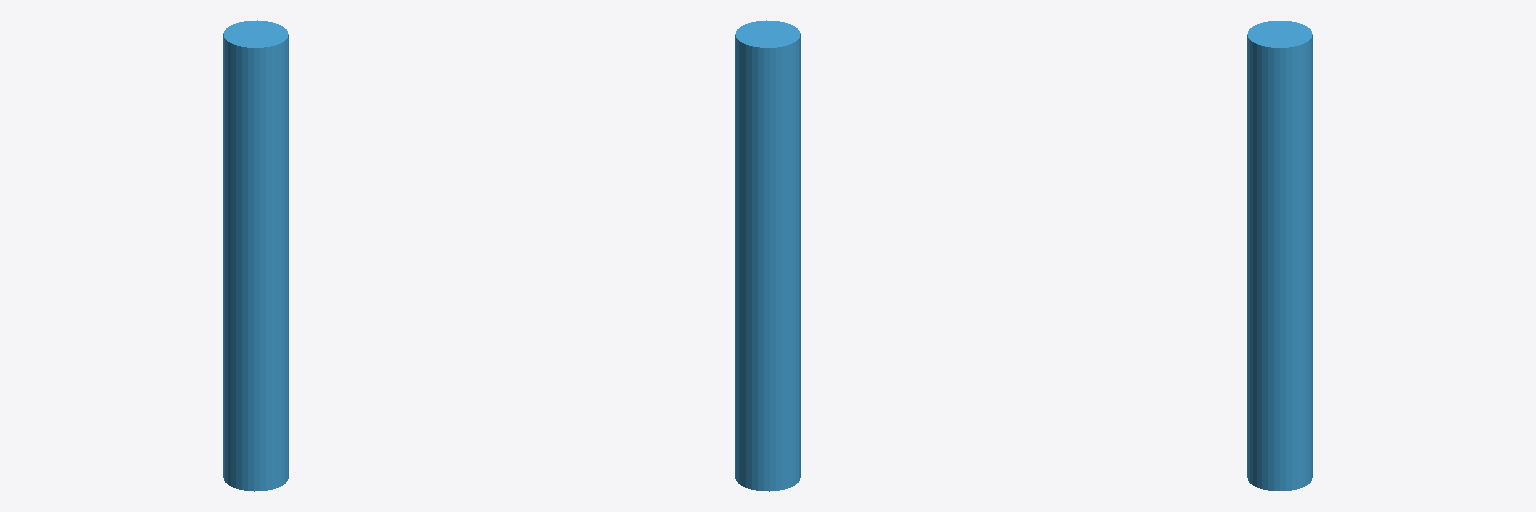
The robot description file, URDF, robot "graspable":
<?xml version="1.0" ?>
<!-- =================================================================================== -->
<!-- |    This document was autogenerated by xacro from [local-path]/ws_velma/underlay/src/barrett_hand_robot/barrett_hand_defs/robots/barrett_hand.urdf.xml | -->
<!-- |    EDITING THIS FILE BY HAND IS NOT RECOMMENDED                                 | -->
<!-- =================================================================================== -->
<robot name="graspable" xmlns:controller="http://playerstage.sourceforge.net/gazebo/xmlschema/#controller" xmlns:geom="http://playerstage.sourceforge.net/gazebo/xmlschema/#geom" xmlns:interface="http://playerstage.sourceforge.net/gazebo/xmlschema/#interface" xmlns:sensor="http://playerstage.sourceforge.net/gazebo/xmlschema/#sensor" xmlns:xacro="http://www.ros.org/wiki/xacro">
  <material name="DarkGrey">
    <color rgba="0.3 0.3 0.3 1.0"/>
  </material>
  <material name="Red">
    <color rgba="0.3 0.3 0.3 1.0"/>
  </material>
  <material name="Black">
    <color rgba="0 0 0 1.0"/>
  </material>
  <material name="Orange">
    <color rgba="1.0 0.487 0 1.0"/>
  </material>
  <material name="Silver">
    <color rgba="1.0 1.0 1.0 1.0"/>
  </material>
  <material name="Grey">
    <color rgba="0.7 0.7 0.7 1.0"/>
  </material>
  <material name="Blue">
    <color rgba="0.0 0.0 0.8 1.0"/>
  </material>
  <material name="HandGray">
    <color rgba="0.953 0.996 0.694 1.0"/>
  </material>
  <material name="SickBlue">
    <color rgba="0.3058 0.5921 0.7294 1.0"/>
  </material>
  <link name="world"/>
  <joint name="arm_world_joint" type="floating">
    <origin rpy="0 0 0" xyz="0 0 0"/>
    <parent link="world"/>
    <child link="graspable"/>
  </joint>
  <link name="graspable">
    <inertial>
      <origin xyz="0.00035500 -0.00499005 0.04864979"/>
      <mass value="0.63352875"/>
      <inertia ixx="0.00102103" ixy="0.00000775" ixz="-0.00001230" iyy="0.00080944" iyz="-0.00014417" izz="0.00068788"/>
    </inertial>
    <visual>
      <origin rpy="0 0 0" xyz="0 0 0"/>
      <geometry>
        <mesh filename="package://barrett_hand_sim_dart/meshes/cylinder4.stl"/>
      </geometry>
    </visual>
    <!-- collision mesh used for whole arm motion planning -->
    <!-- collision mesh used for grasp planning -->
    <collision>
      <origin rpy="0 0 0" xyz="0 0 0"/>
      <geometry>
        <mesh filename="package://barrett_hand_sim_dart/meshes/cylinder4.stl"/>
      </geometry>
    </collision>
  </link>
</robot>

--- What the picture shows (computed from the rendered views, not written in the file) ---
The picture shows the robot from 3 angles, left to right: view 1: azimuth 30°, elevation 25°; view 2: azimuth 150°, elevation 25°; view 3: azimuth 270°, elevation 25°; orthographic projection.
Robot: graspable — 2 links, 1 joints (1 floating); root link world; default pose: every joint at zero.
Links seen in each view (by area): view 1: graspable; view 2: graspable; view 3: graspable.
Boxes of the visible links, <box> form: graspable: <box>223,20,288,491</box>; graspable: <box>735,20,800,491</box>; graspable: <box>1247,21,1312,490</box>.
Size in the robot's own frame: 0.04 by 0.04 by 0.3 metres.
1 mesh visuals loaded from 1 distinct referenced files (1 binary STL).
